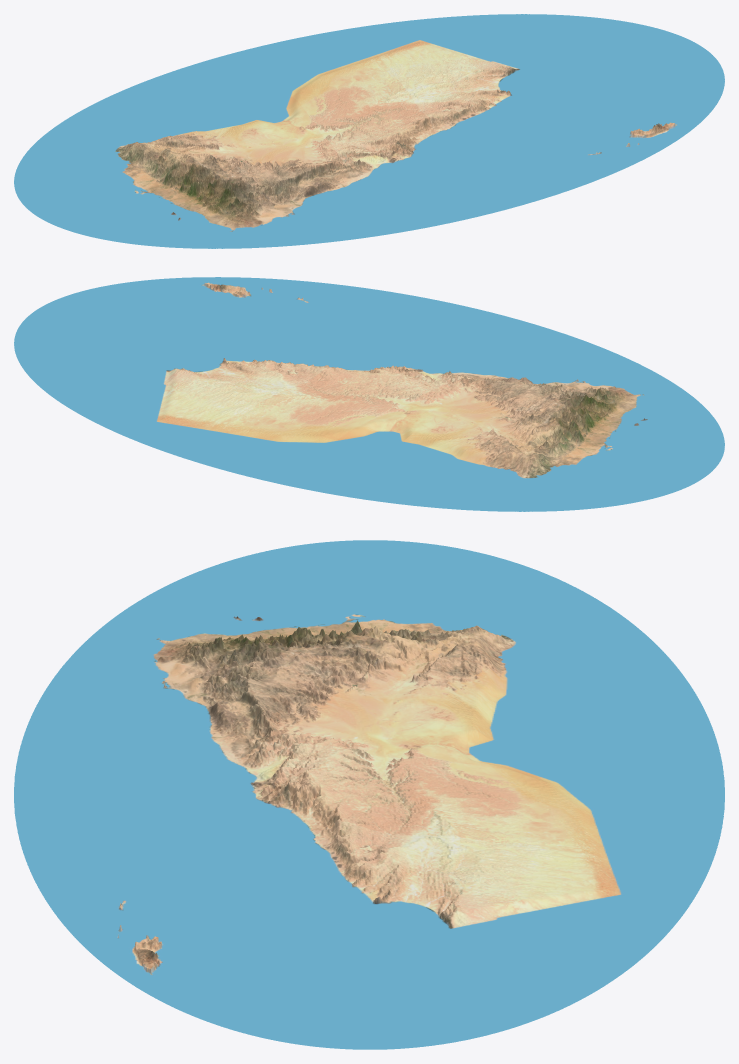
File: YEM-previa-terrain.glb
3 renders of one model, top to bottom at view 1: azimuth 30°, elevation 25°; view 2: azimuth 150°, elevation 25°; view 3: azimuth 270°, elevation 25°, orthographic. The views are drawn at different scales.
Visible parts, largest first — view 1: Iémen; view 2: Iémen; view 3: Iémen.
Boxes of the visible parts, box(x1,y1,x2,y2) form: Iémen: box(14, 14, 724, 248); Iémen: box(14, 277, 724, 511); Iémen: box(14, 540, 724, 1049).
Size of the model in its own units: 2.5 by 0.061 by 1.47.
1 material, 1 textured.
